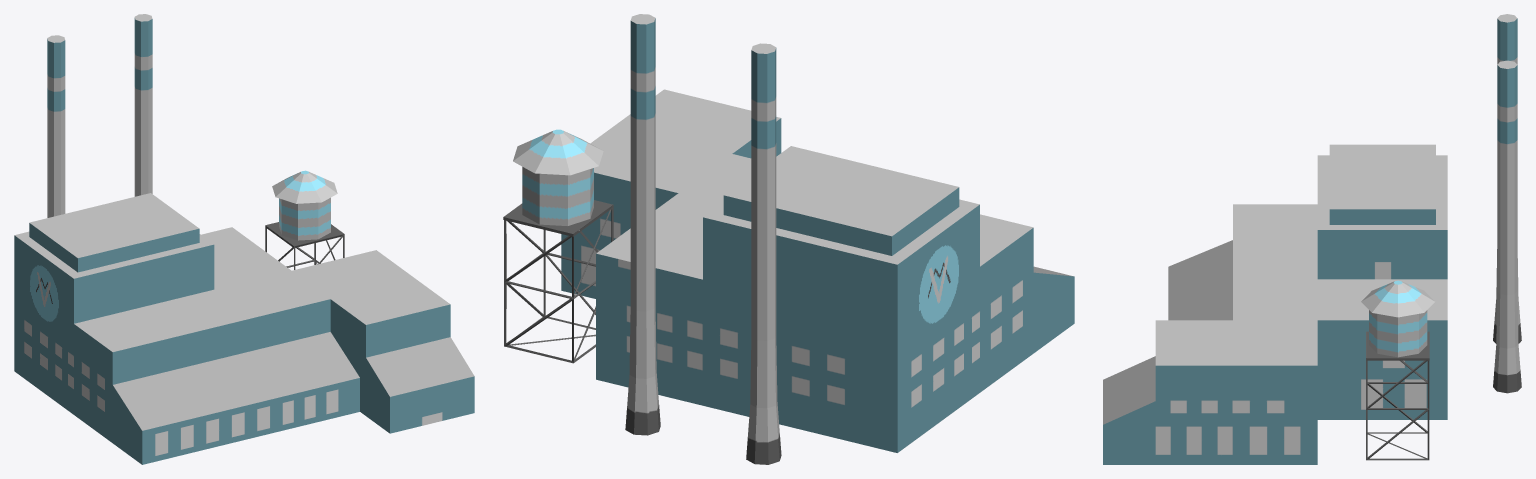
Rendered from FactoryB_noGround.fbx.
3 views of the same model, side by side, from view 1: azimuth 30°, elevation 25°; view 2: azimuth 150°, elevation 25°; view 3: azimuth 270°, elevation 25° (orthographic). The views are drawn at different scales.
Visible parts, largest first — view 1: FactoryB; view 2: FactoryB; view 3: FactoryB.
Part boxes in pixels (bbox=[...]): FactoryB: bbox=[14, 14, 474, 464]; FactoryB: bbox=[503, 14, 1074, 464]; FactoryB: bbox=[1103, 14, 1521, 464].
Bounding box in the file's own units: 347 × 324 × 381.
